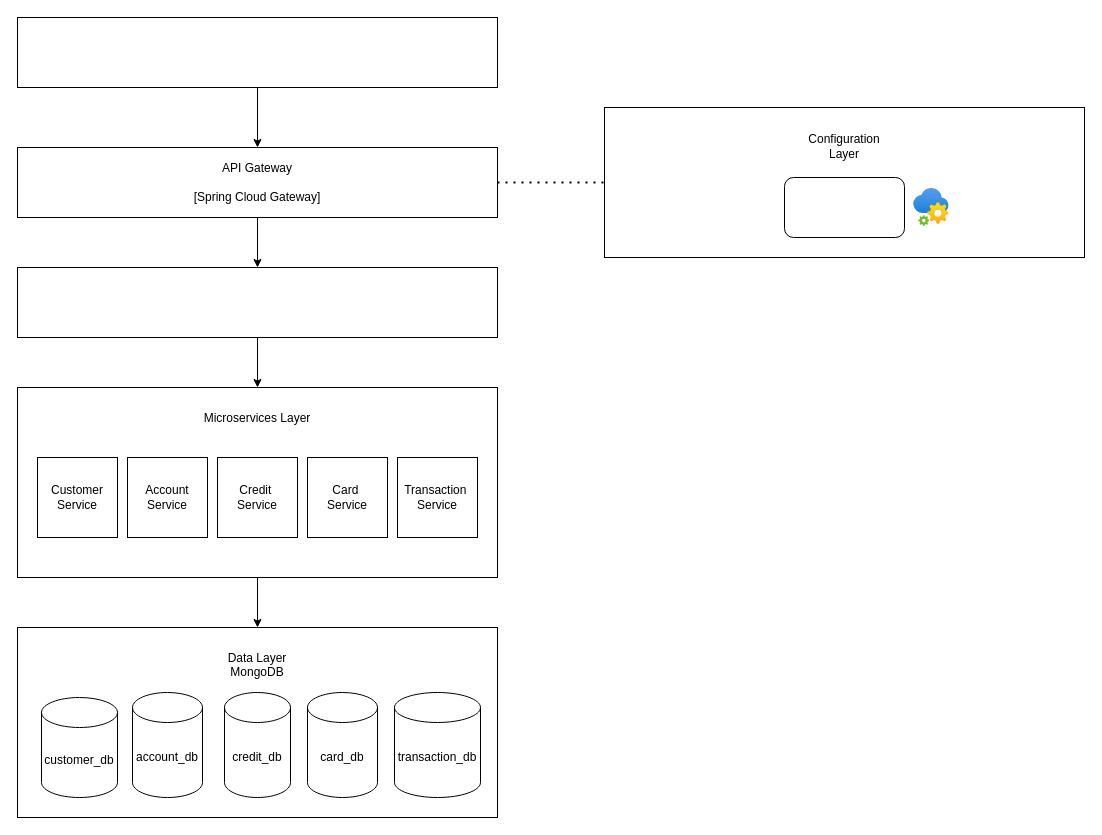
Image size: 1102x835. Some labels were removed from this diagram. Each missing label, with the centre of its shape:
"Client Layer [Postman, API Clients]" goes at (x=257, y=52).
"Config Server" goes at (x=844, y=207).
"EUREKA [Service Discovery]" goes at (x=257, y=302).
